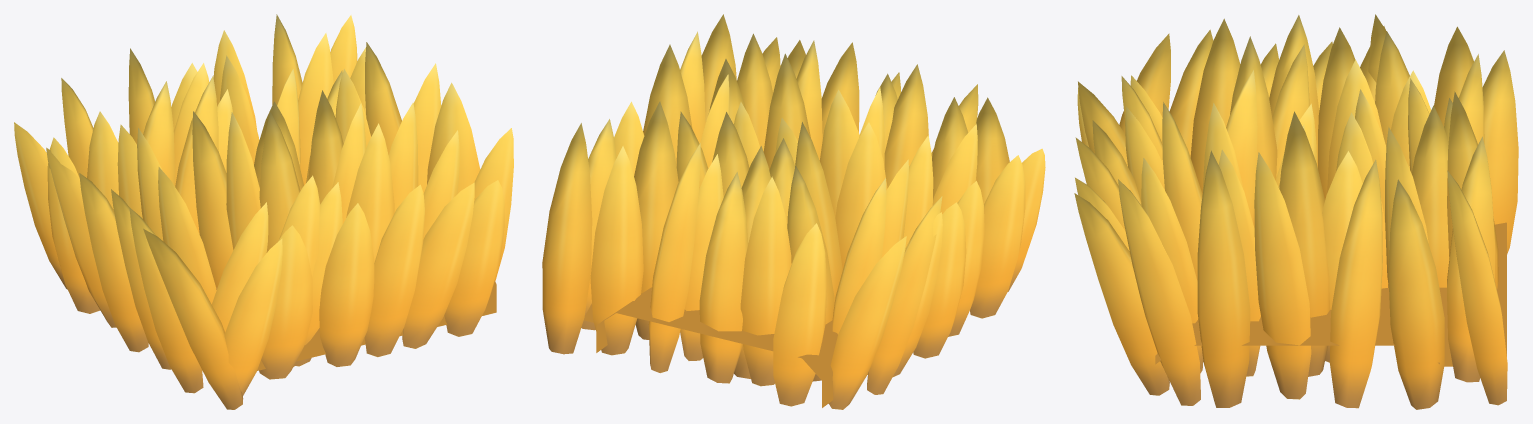
The model's file is grass_corner.glb.
The picture shows the model from 3 angles, left to right: view 1: azimuth 30°, elevation 25°; view 2: azimuth 150°, elevation 25°; view 3: azimuth 270°, elevation 25°; orthographic projection. The views are drawn at different scales.
Visible parts, largest first — view 1: grass_corner; view 2: grass_corner; view 3: grass_corner.
Boxes of the visible parts, x1,y1,x2,y2 form: grass_corner: (14, 14, 513, 409); grass_corner: (542, 14, 1045, 409); grass_corner: (1074, 14, 1518, 409).
Bounding box in the file's own units: 1.09 × 0.6767 × 1.06.
Materials: 1 (1 with a texture image).
